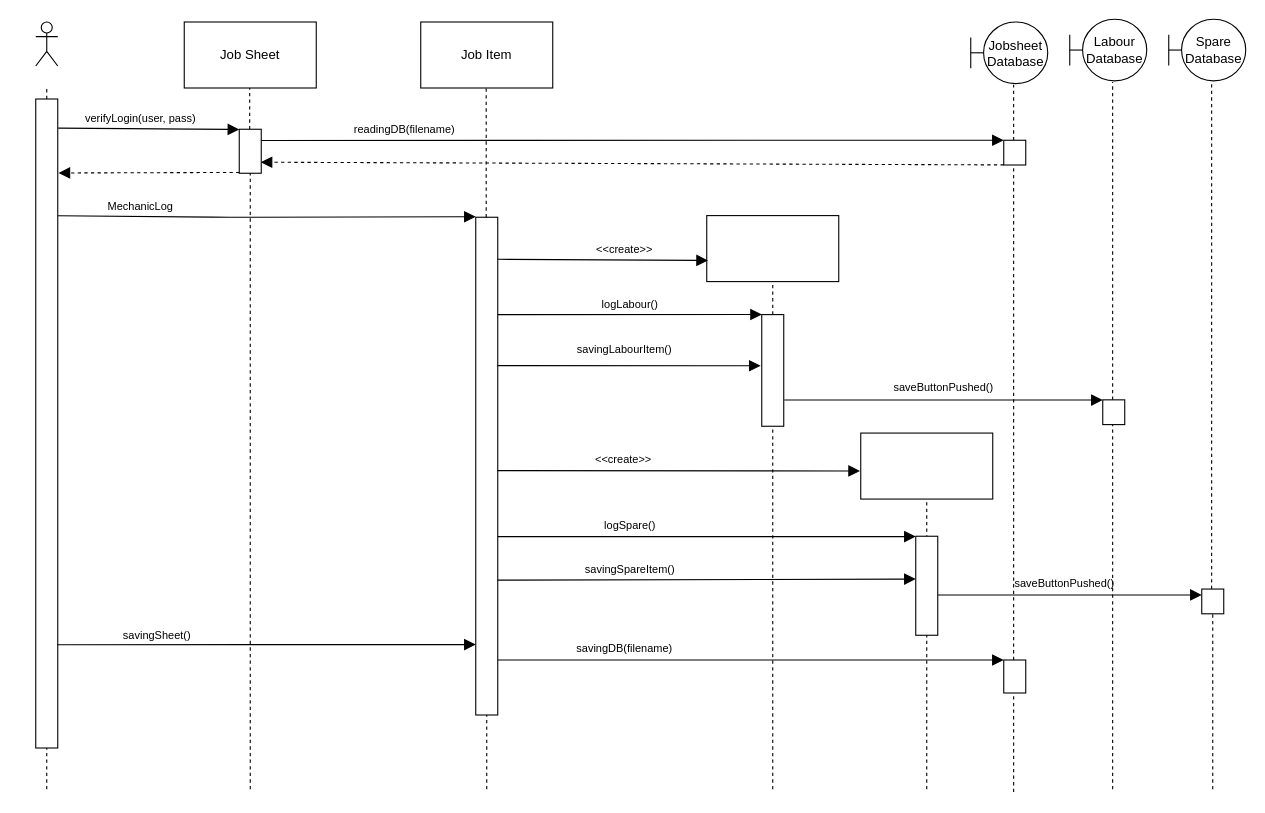
Image size: 1265x813. Some labels were removed from this diagram. The centre of each missing label's shape, as x and y in pixels:
"Labour Item" belongs at (772,248).
"Mechanic" belongs at (46,43).
"Spare Parts" belongs at (926,465).
